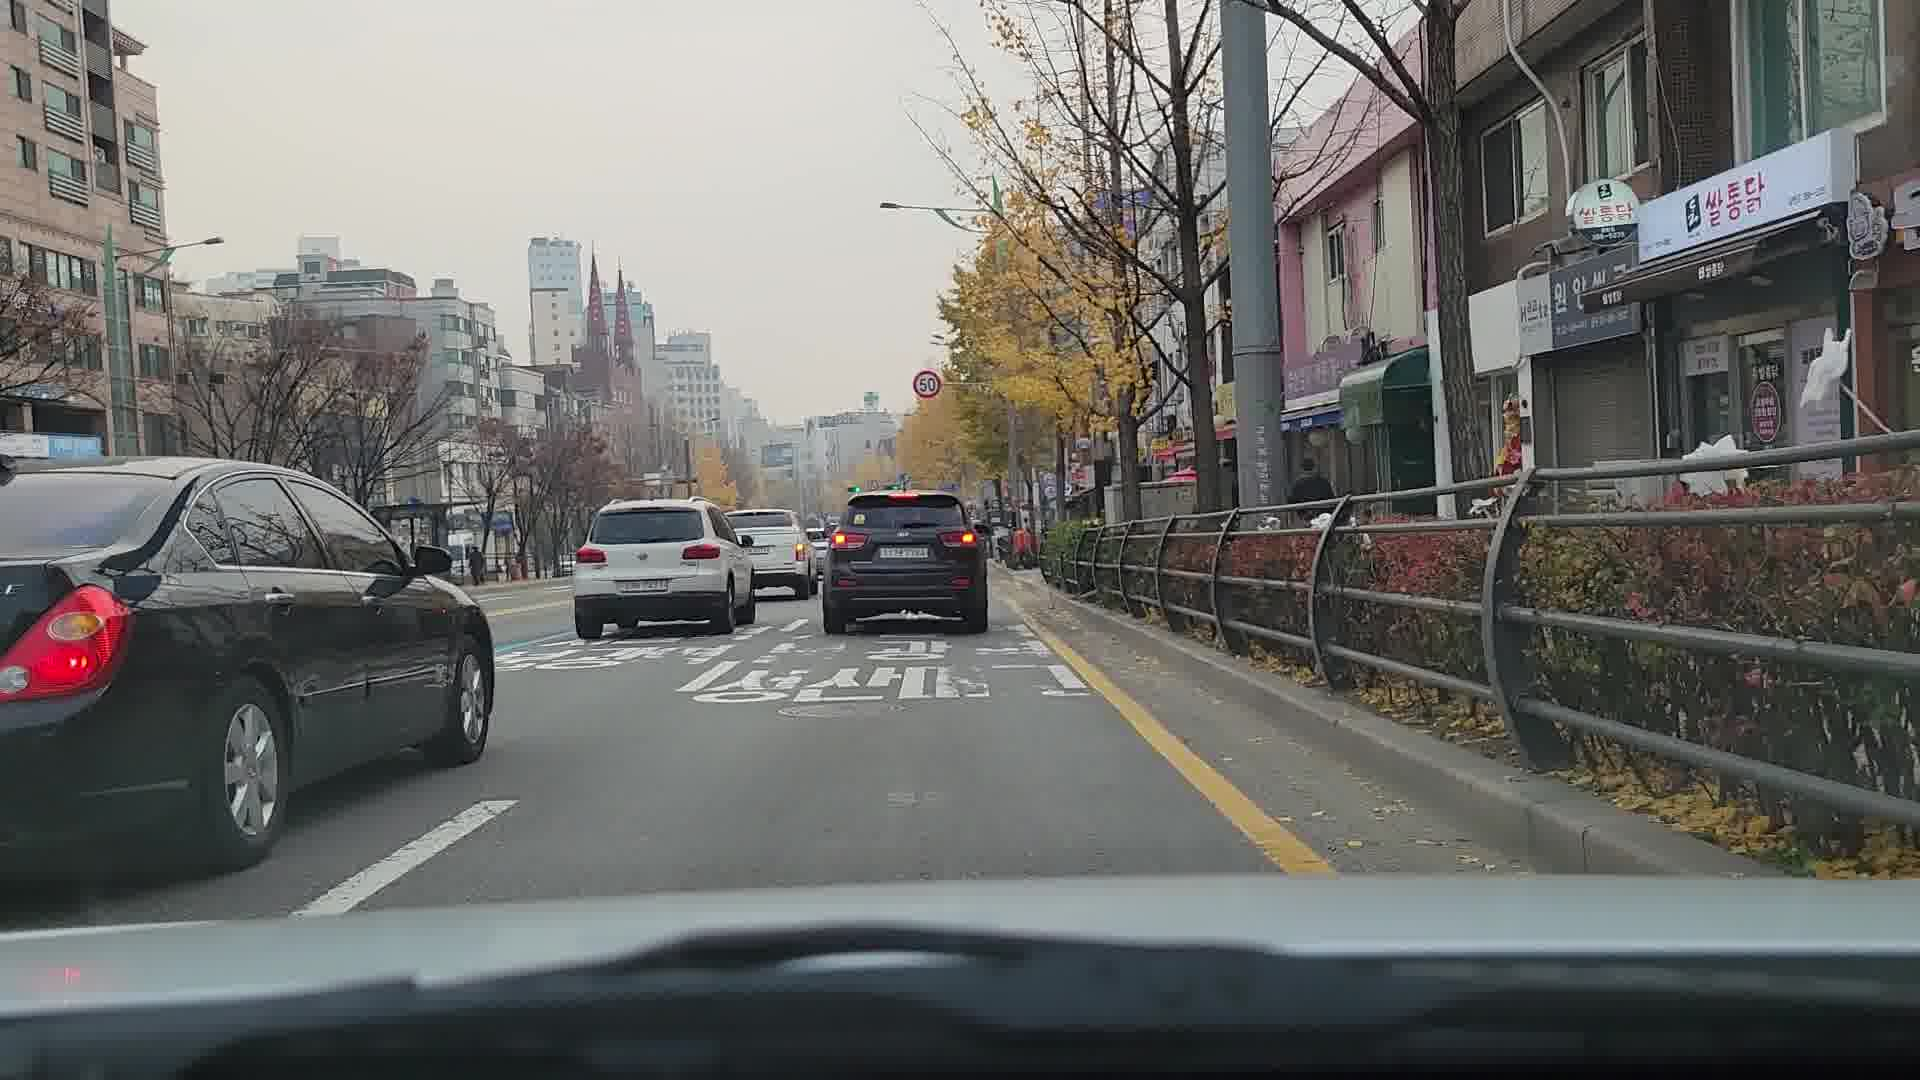car: (0, 458, 502, 891), (568, 495, 764, 640), (727, 510, 819, 601)
truck: (816, 489, 988, 637)
